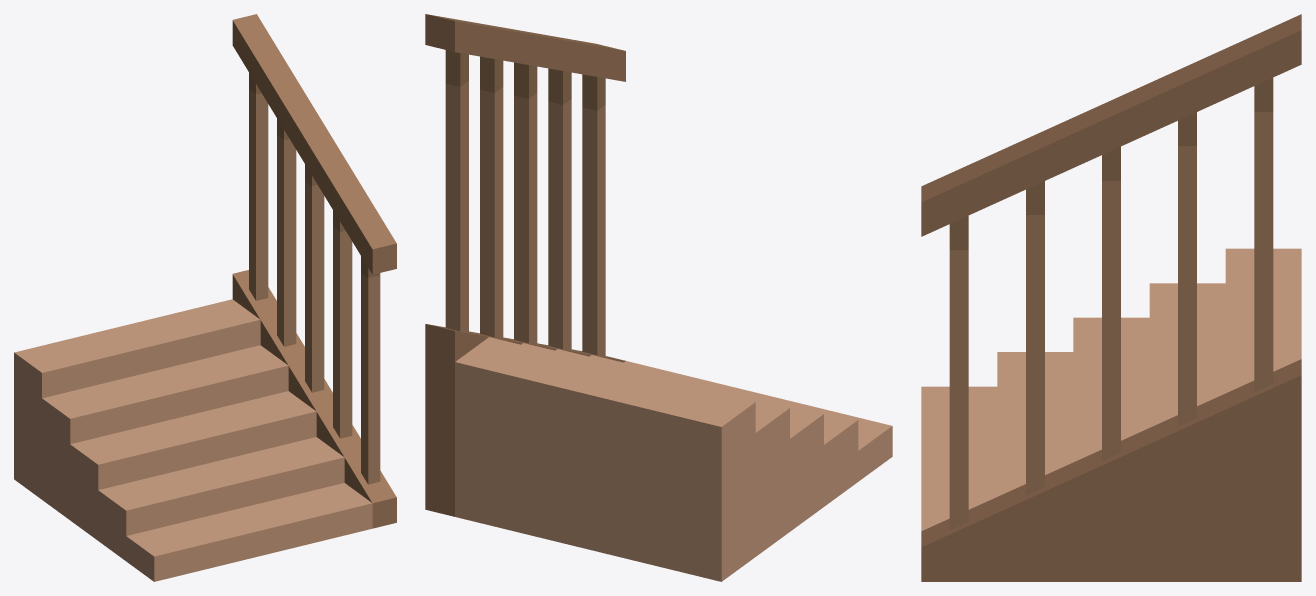
File: step.glb
The picture shows the model from 3 angles, left to right: view 1: azimuth 30°, elevation 25°; view 2: azimuth 150°, elevation 25°; view 3: azimuth 270°, elevation 25°; orthographic projection. The views are drawn at different scales.
Parts seen in each view (by area): view 1: step, railing; view 2: step, railing; view 3: railing, step.
Part boxes in pixels (bbox=[...]): step: bbox=[14, 299, 372, 581]; railing: bbox=[232, 14, 396, 528]; step: bbox=[455, 337, 892, 581]; railing: bbox=[425, 14, 625, 516]; railing: bbox=[921, 14, 1301, 581]; step: bbox=[921, 248, 1301, 530].
Size of the model in its own units: 1 by 1.6 by 1.
Materials: 1 (1 with a texture image).
